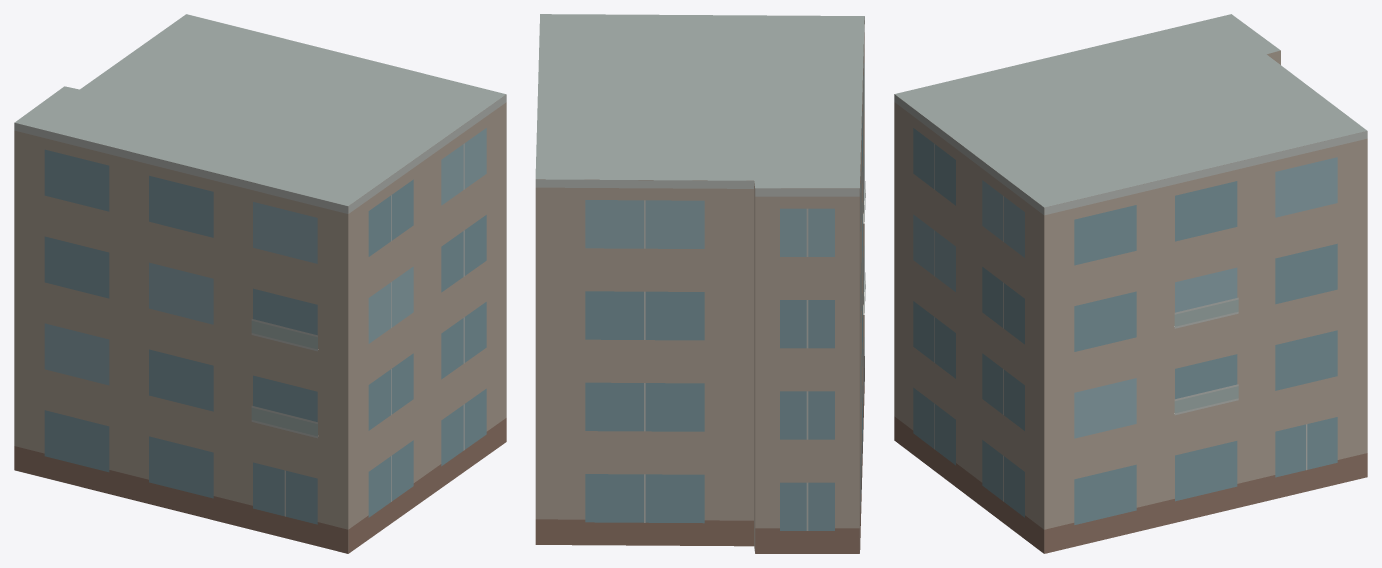
Rendered from survey-upis-32722380.glb.
3 views of the same model, side by side, from view 1: azimuth 30°, elevation 25°; view 2: azimuth 150°, elevation 25°; view 3: azimuth 270°, elevation 25° (orthographic). The views are drawn at different scales.
Visible parts, largest first — view 1: survey-upis-32722380.tmp; view 2: survey-upis-32722380.tmp; view 3: survey-upis-32722380.tmp.
Boxes of the visible parts, box(x1,y1,x2,y2) form: survey-upis-32722380.tmp: box(14, 14, 506, 553); survey-upis-32722380.tmp: box(535, 14, 865, 553); survey-upis-32722380.tmp: box(894, 14, 1367, 553).
Bounding box in the file's own units: 12.95 × 10.8 × 13.38.
